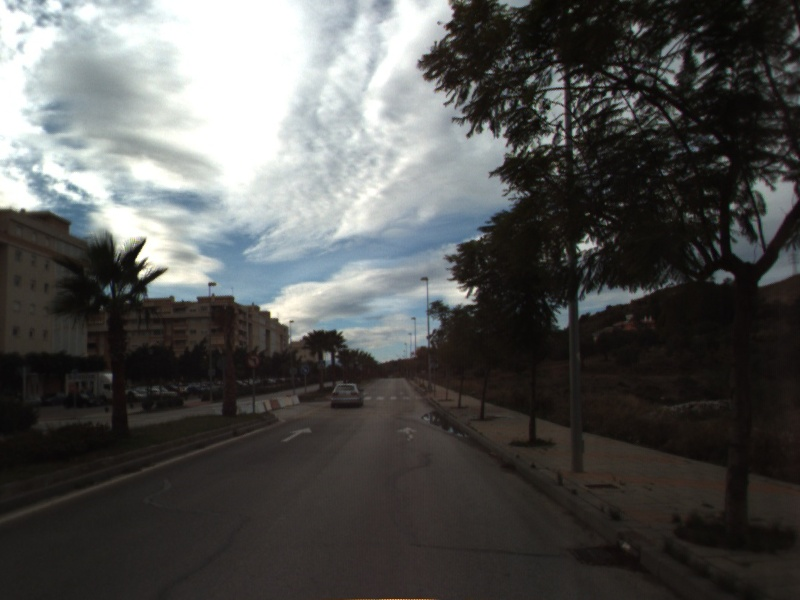STRAIGHT: (279, 425, 314, 444), (395, 424, 420, 444)
